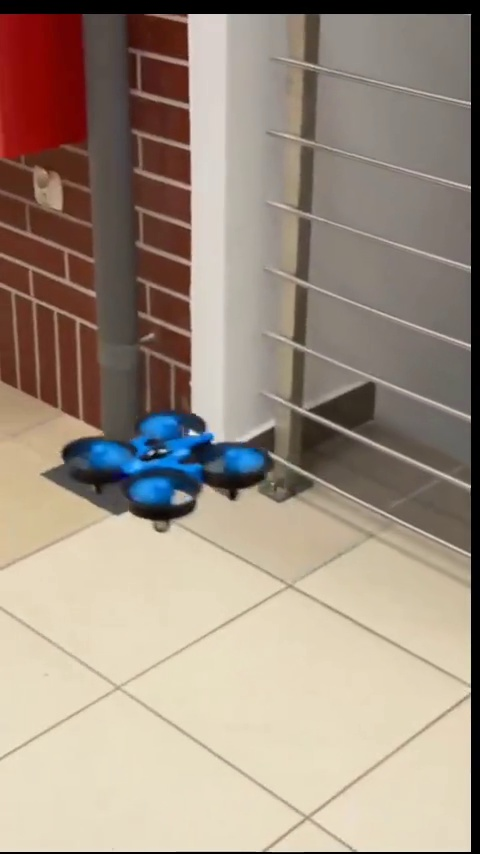drone: (57, 413, 268, 535)
